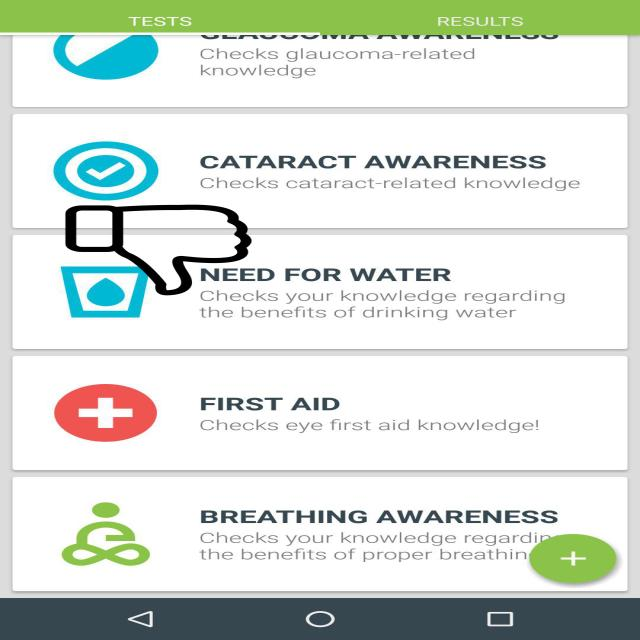obstruction: (63, 205, 254, 295)
